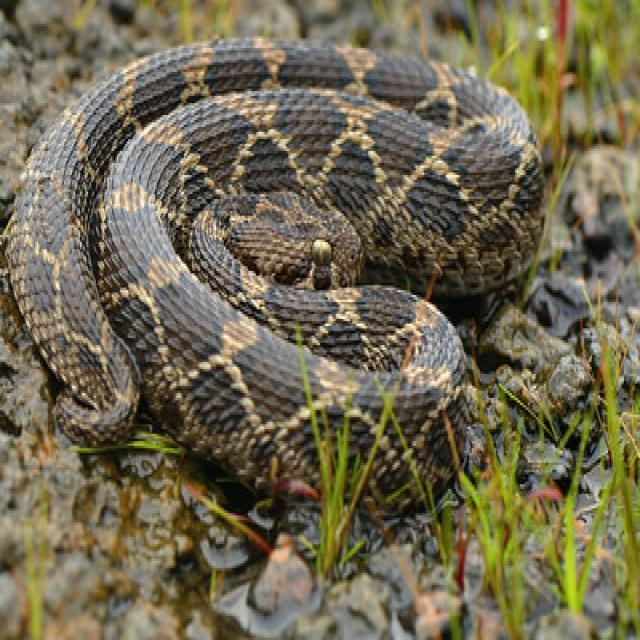Snake: (3, 31, 547, 518)
